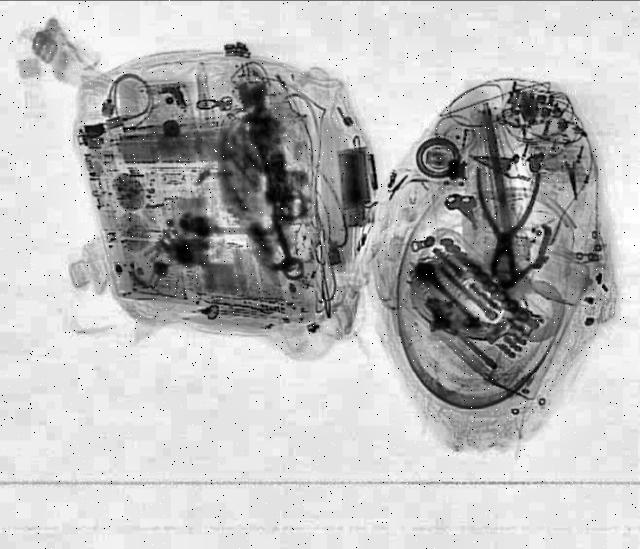Pliers: (469, 168, 538, 284)
